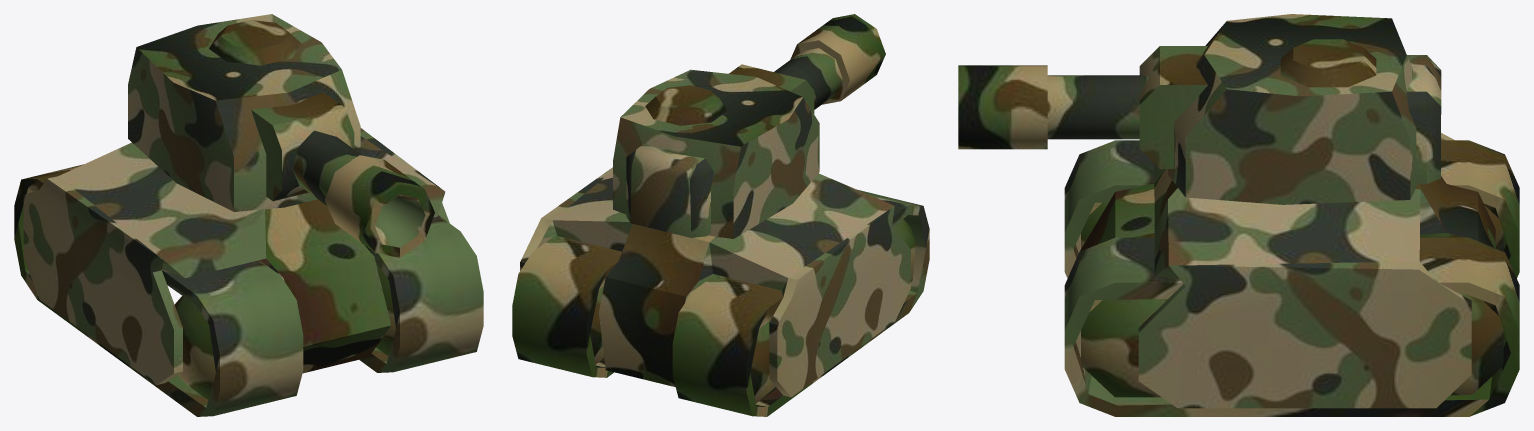
Rendered from green_tank.fbx.
3 renders of one model, left to right at view 1: azimuth 30°, elevation 25°; view 2: azimuth 150°, elevation 25°; view 3: azimuth 270°, elevation 25°, orthographic. The views are drawn at different scales.
Parts seen in each view (by area): view 1: Tank1; view 2: Tank1; view 3: Tank1.
Boxes of the visible parts, x1,y1,x2,y2 form: Tank1: (14, 14, 483, 416); Tank1: (512, 14, 929, 416); Tank1: (958, 14, 1519, 416).
Bounding box in the file's own units: 294 × 266 × 446.
1 material, 1 textured.
